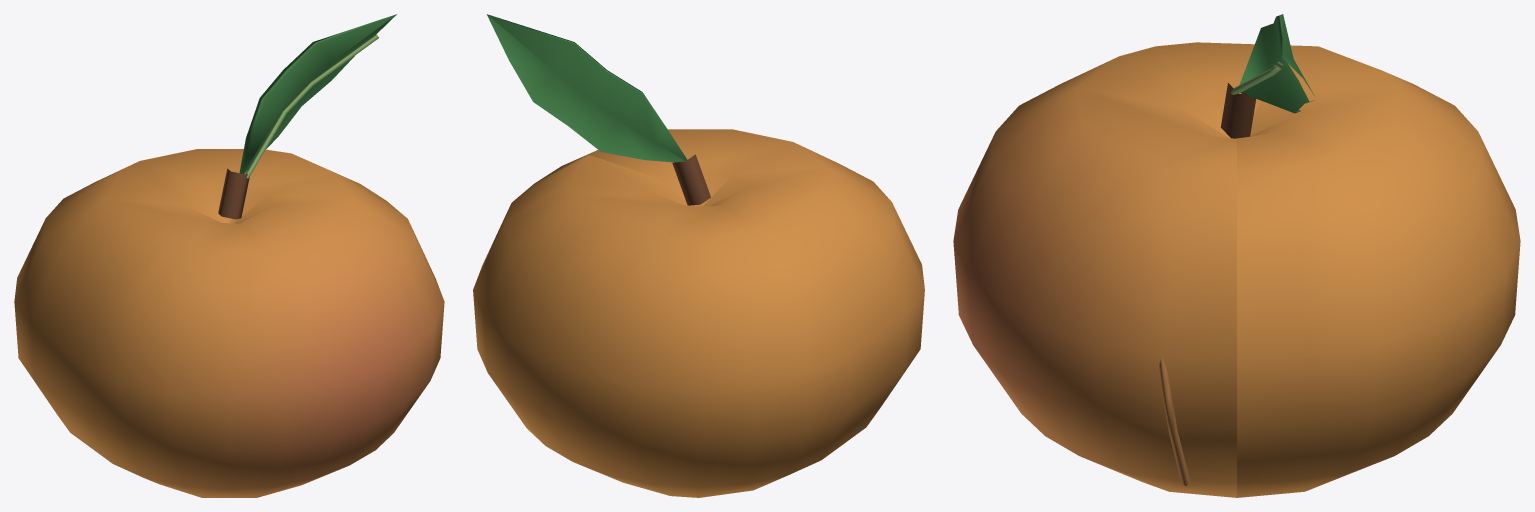
Rendered from fruta_durazno_lod.glb.
3 renders of one model, left to right at view 1: azimuth 30°, elevation 25°; view 2: azimuth 150°, elevation 25°; view 3: azimuth 270°, elevation 25°, orthographic. The views are drawn at different scales.
Parts seen in each view (by area): view 1: fruta_durazno; view 2: fruta_durazno; view 3: fruta_durazno.
Part boxes in pixels (<box>): fruta_durazno: <box>14,14,444,497</box>; fruta_durazno: <box>473,14,924,497</box>; fruta_durazno: <box>953,14,1520,497</box>.
Bounding box in the file's own units: 0.2979 × 0.3073 × 0.312.
